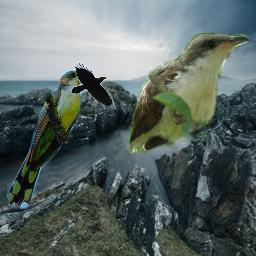Crow: (71, 61, 115, 106)
Cuckoo: (126, 32, 249, 156), (7, 70, 92, 209)
